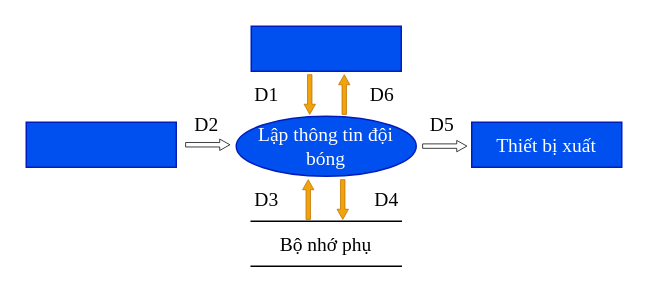
This 648x293 diagram has some shape labels left out. The shapes that lost their labels are listed below. From the top down, each one's centre as x and y in pixels, then its label:
At (325,48): "Người dùng".
At (100,144): "Thiết bị nhập".
